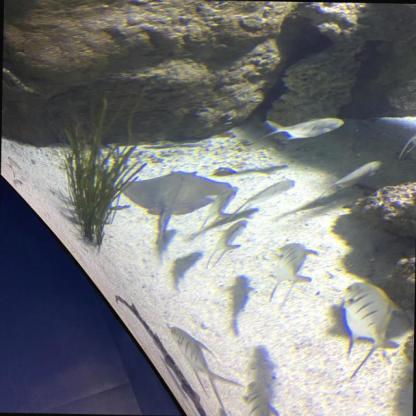fish: (337, 281, 403, 358), (262, 241, 322, 304), (223, 175, 297, 225), (313, 156, 382, 204), (258, 115, 346, 142), (205, 216, 249, 269), (197, 184, 239, 237), (398, 117, 416, 162)
stingray: (117, 168, 230, 218)
